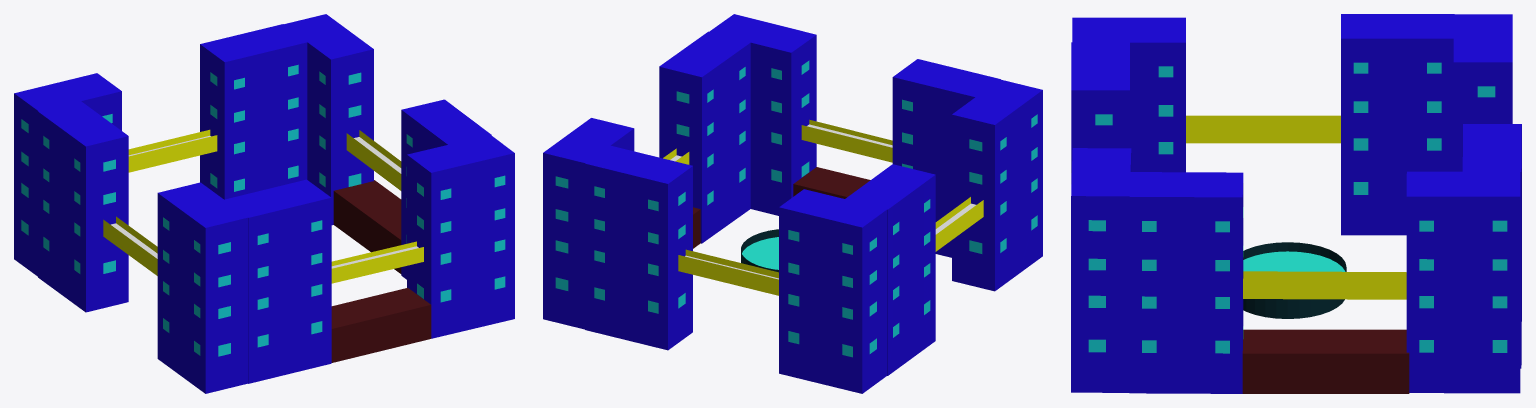
File: Bigbuilding.fbx
3 renders of one model, left to right at view 1: azimuth 30°, elevation 25°; view 2: azimuth 150°, elevation 25°; view 3: azimuth 270°, elevation 25°, orthographic. The views are drawn at different scales.
Visible parts, largest first — view 1: Cylinder; view 2: Cylinder; view 3: Cylinder.
Boxes of the visible parts, x1,y1,x2,y2 form: Cylinder: [14, 14, 514, 393]; Cylinder: [543, 14, 1042, 393]; Cylinder: [1071, 14, 1521, 393].
Size of the model in its own units: 1477 by 738 by 1534.
